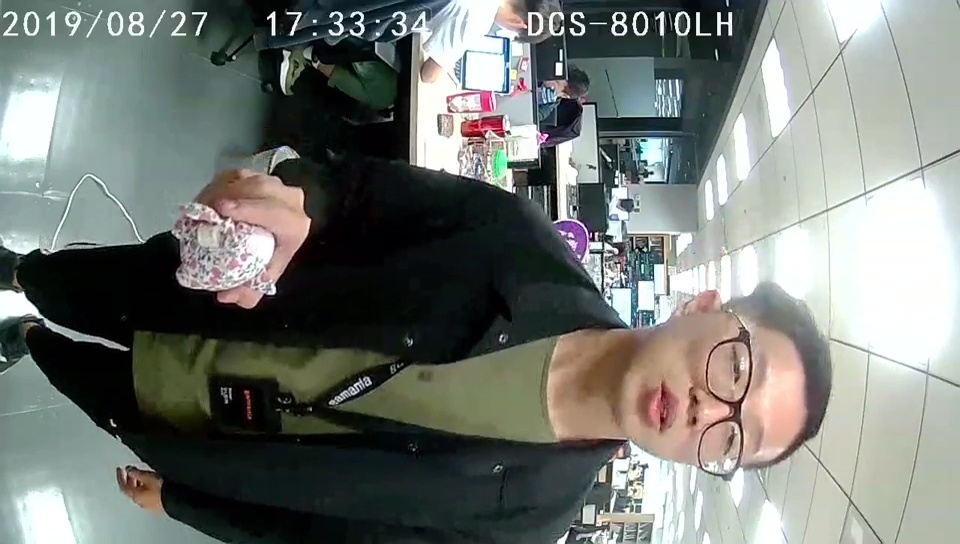pig: (169, 202, 276, 296)
